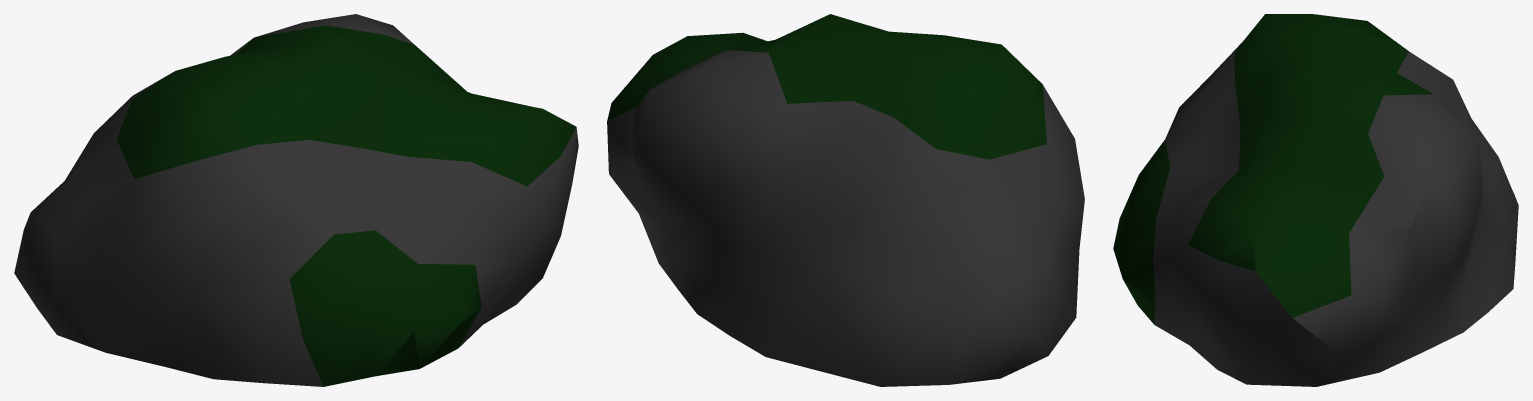
The model's file is Stone_7.fbx.
3 views of the same model, side by side, from view 1: azimuth 30°, elevation 25°; view 2: azimuth 150°, elevation 25°; view 3: azimuth 270°, elevation 25° (orthographic). The views are drawn at different scales.
Visible parts, largest first — view 1: Stone; view 2: Stone; view 3: Stone.
Boxes of the visible parts, bbox=[...] form: Stone: bbox=[14, 14, 578, 386]; Stone: bbox=[607, 14, 1084, 386]; Stone: bbox=[1113, 14, 1518, 386].
Size of the model in its own units: 1.8 by 0.8984 by 1.36.
